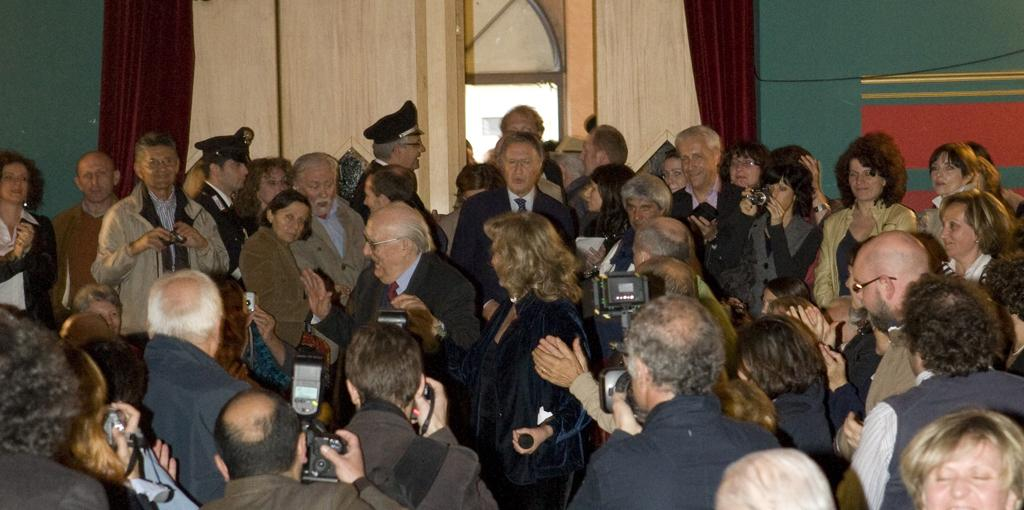Sem Máscara: (0, 110, 1021, 507)
